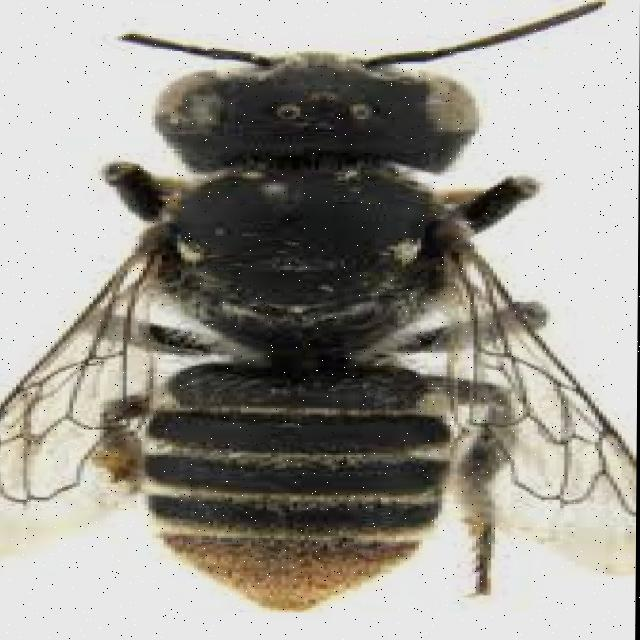Braunsapis: (9, 5, 640, 625)
